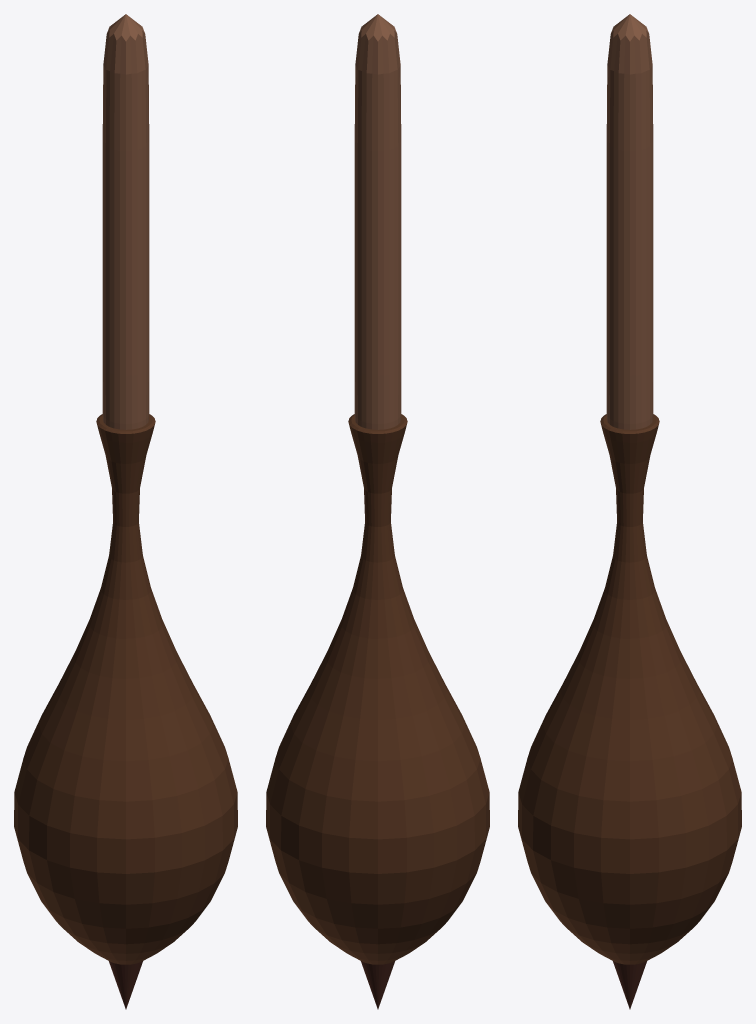
The model's file is Wand 912.glb.
3 views of the same model, side by side, from view 1: azimuth 30°, elevation 25°; view 2: azimuth 150°, elevation 25°; view 3: azimuth 270°, elevation 25° (orthographic).
Parts seen in each view (by area): view 1: GeneratedWand; view 2: GeneratedWand; view 3: GeneratedWand.
Boxes of the visible parts, x1=… form: GeneratedWand: x1=14, y1=14, x2=237, y2=1009; GeneratedWand: x1=266, y1=14, x2=489, y2=1009; GeneratedWand: x1=518, y1=14, x2=741, y2=1009.
Size of the model in its own units: 0.1026 by 0.5033 by 0.1026.
